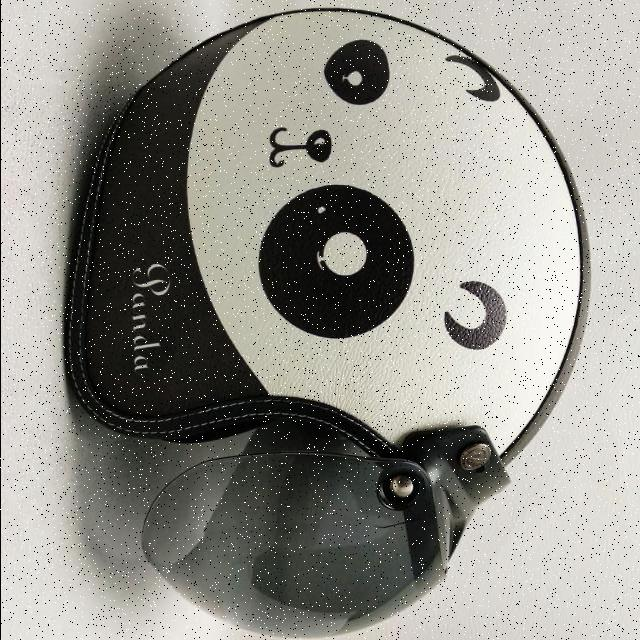Helm: (60, 6, 596, 640)
